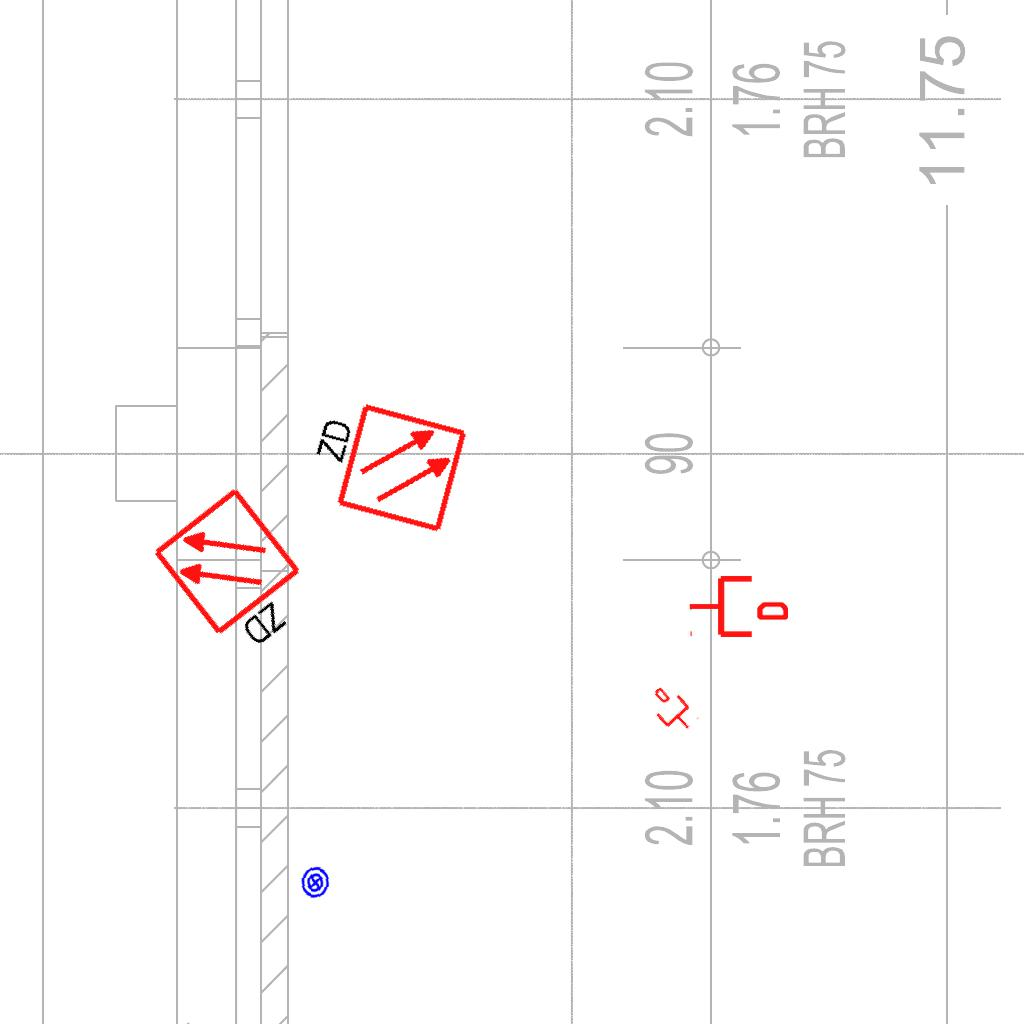Datenanschluss_einfach: (688, 572, 788, 641), (642, 680, 702, 740)
Taster_beleuchtet: (297, 864, 334, 901)
ZD_Melder_in_Zwischendecke_mit_Revisionsoeffnung_mind_40_x_40_cm: (149, 481, 331, 670), (296, 390, 470, 539)
